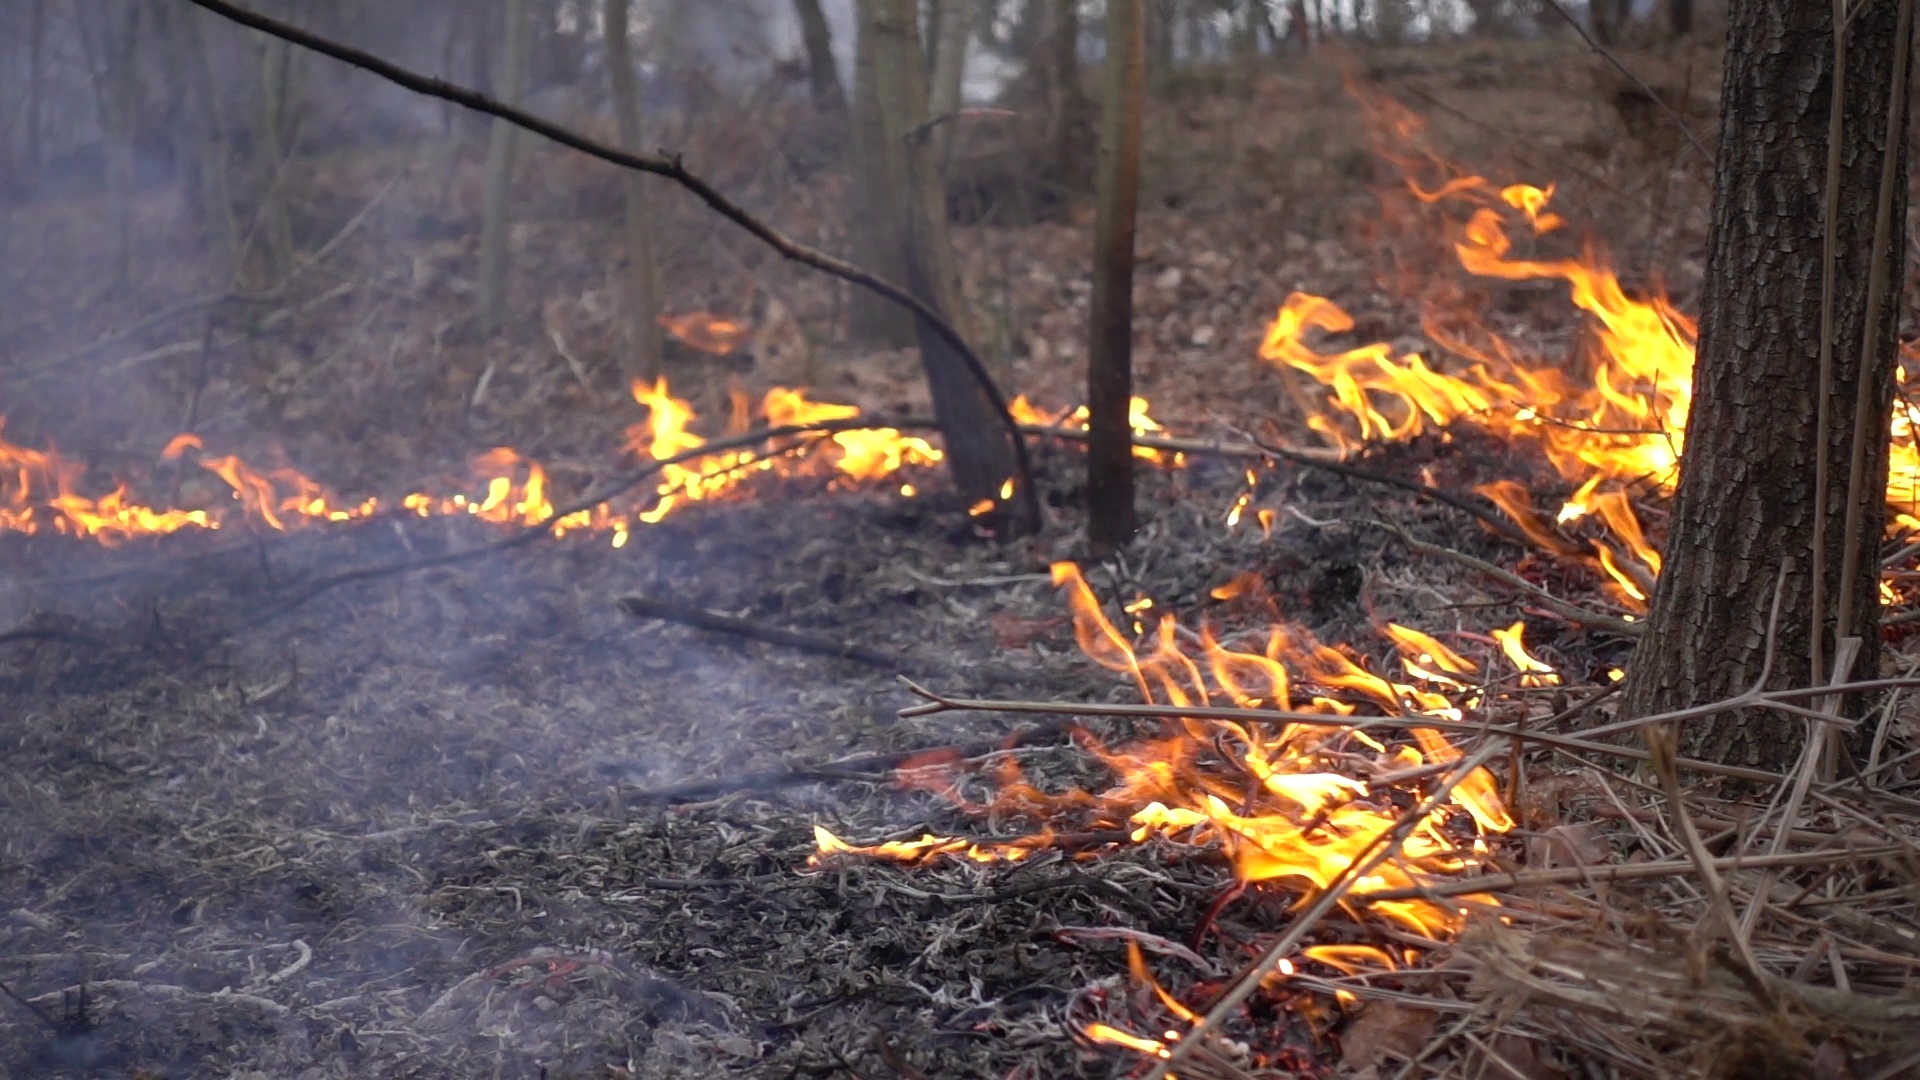fire: (1048, 567, 1538, 928), (1265, 222, 1688, 483), (1, 443, 357, 541), (632, 373, 885, 506), (458, 446, 547, 524), (1888, 405, 1920, 534)
